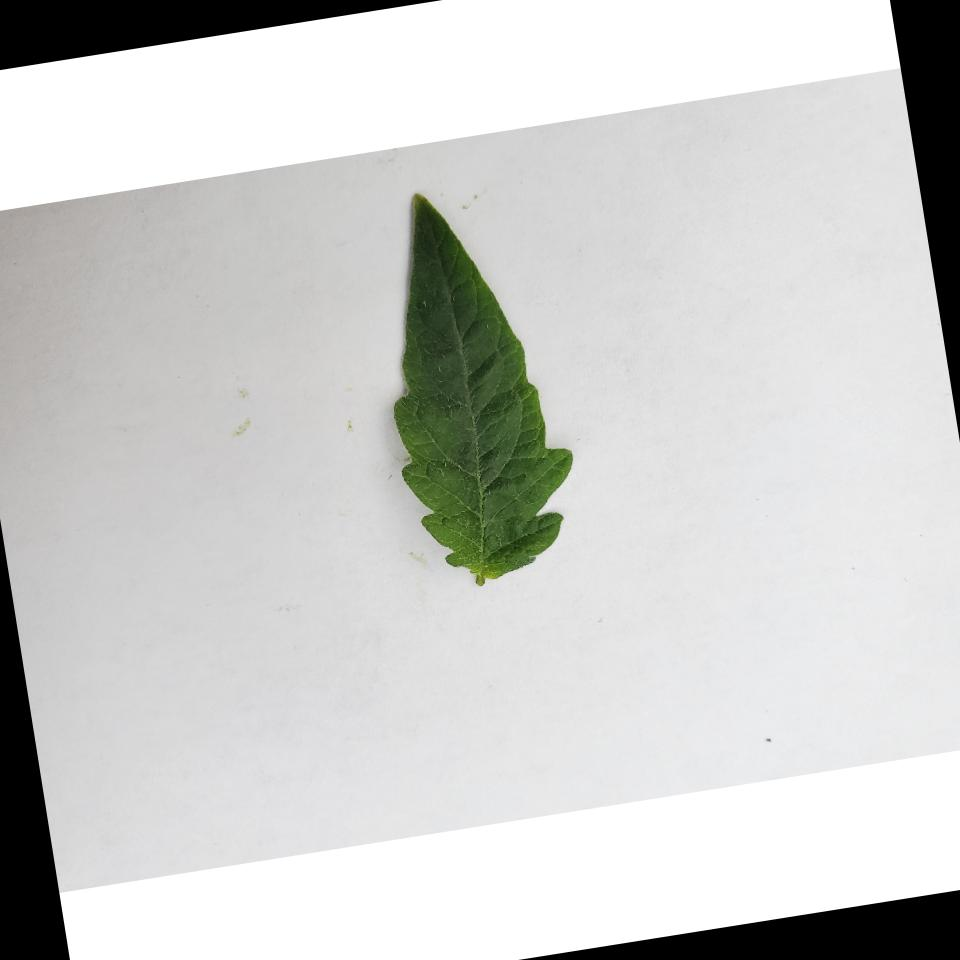tomato_leaves: (357, 170, 593, 589)
